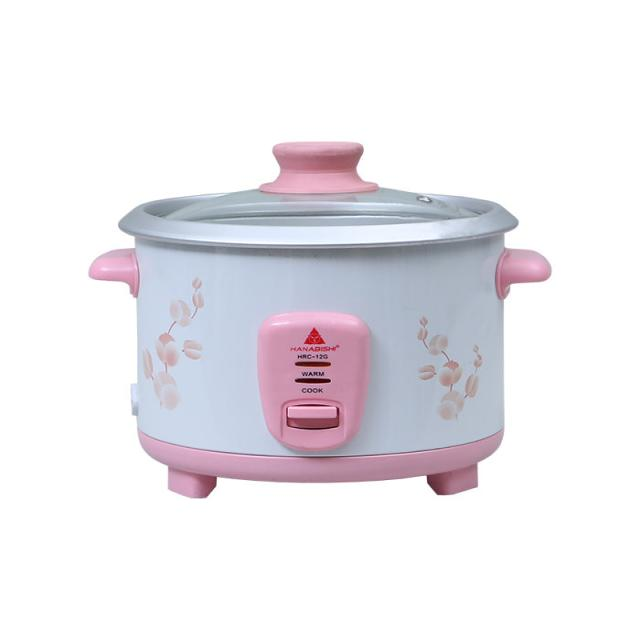appliances: (90, 142, 549, 495)
